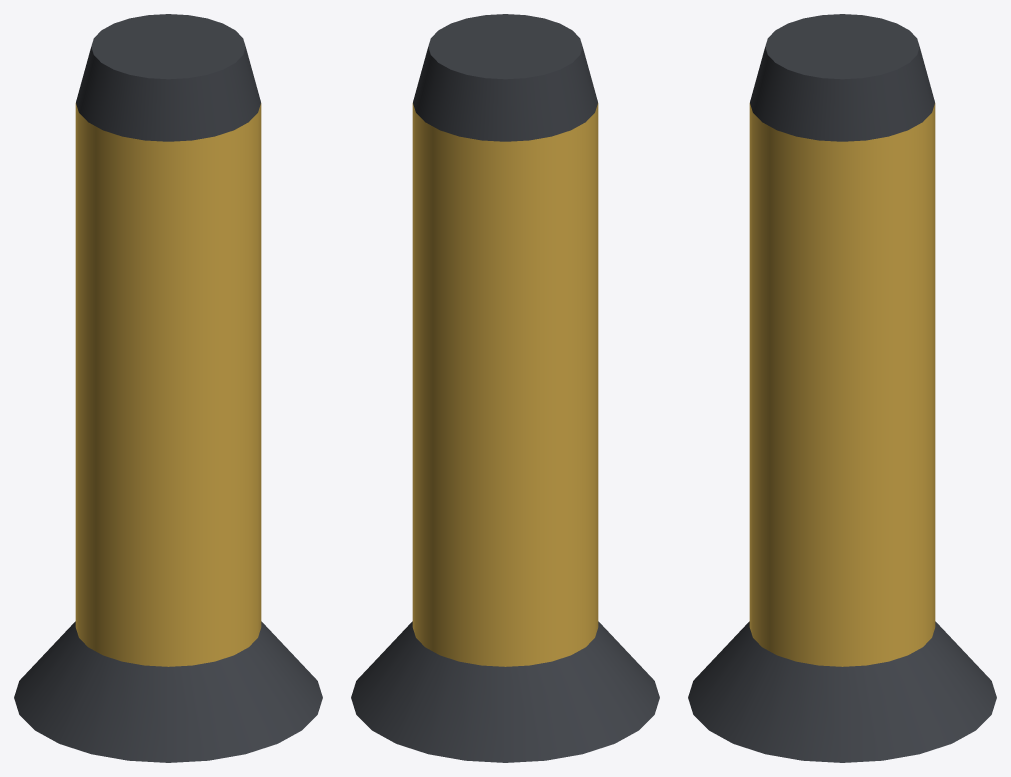
Rendered from prop_bollard.glb.
3 renders of one model, left to right at view 1: azimuth 30°, elevation 25°; view 2: azimuth 150°, elevation 25°; view 3: azimuth 270°, elevation 25°, orthographic.
Visible parts, largest first — view 1: bollard.001; view 2: bollard.001; view 3: bollard.001.
Boxes of the visible parts, x1,y1,x2,y2 form: bollard.001: (14,14,322,762); bollard.001: (351,14,659,762); bollard.001: (688,14,996,762).
Bounding box in the file's own units: 0.4 × 0.93 × 0.4.
